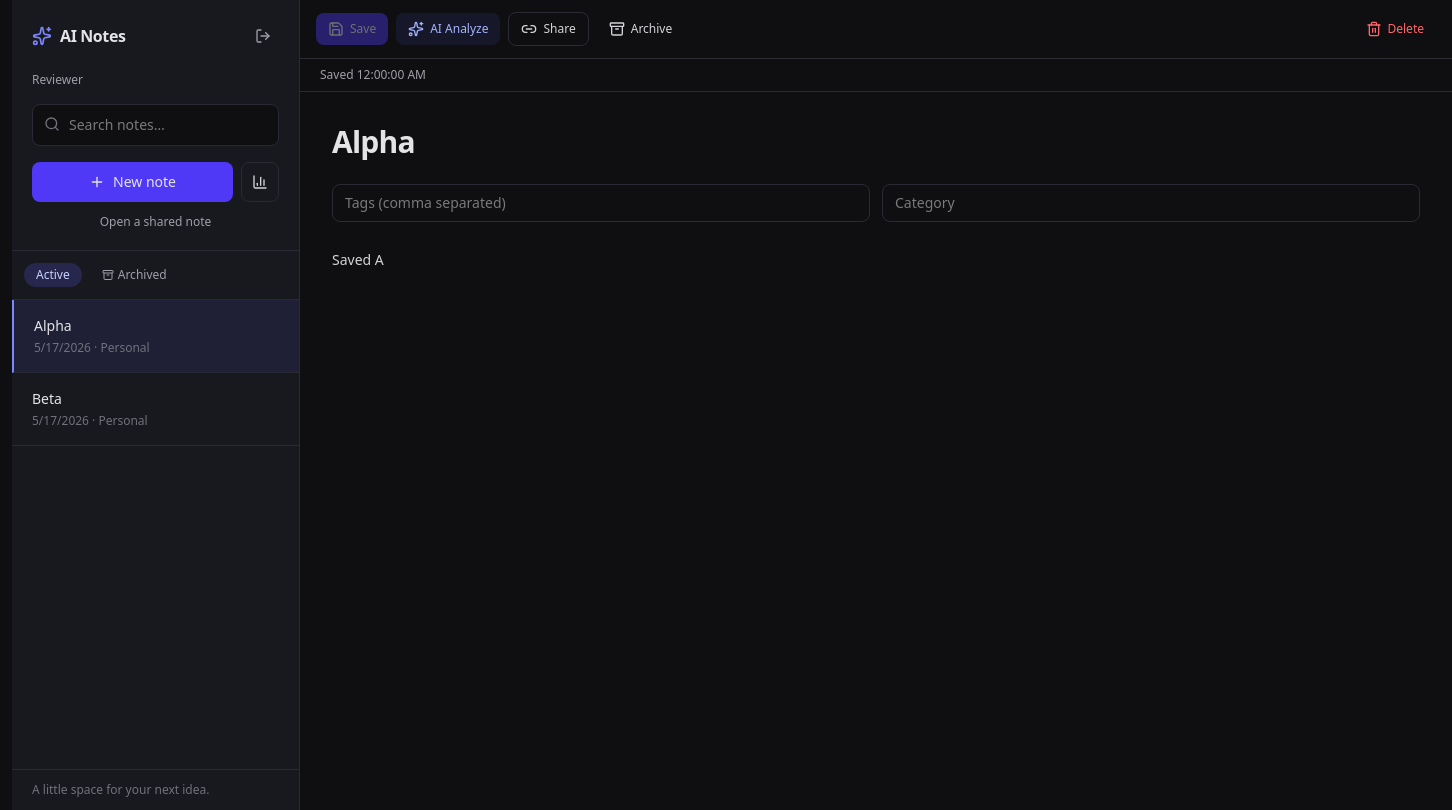
Test case: does not jump back to another note when its save finishes
The image size is (1452, 810).
Replace the text in the text box named "Note content" with "Submitted A" at (876, 426), box [332,246,1420,606]
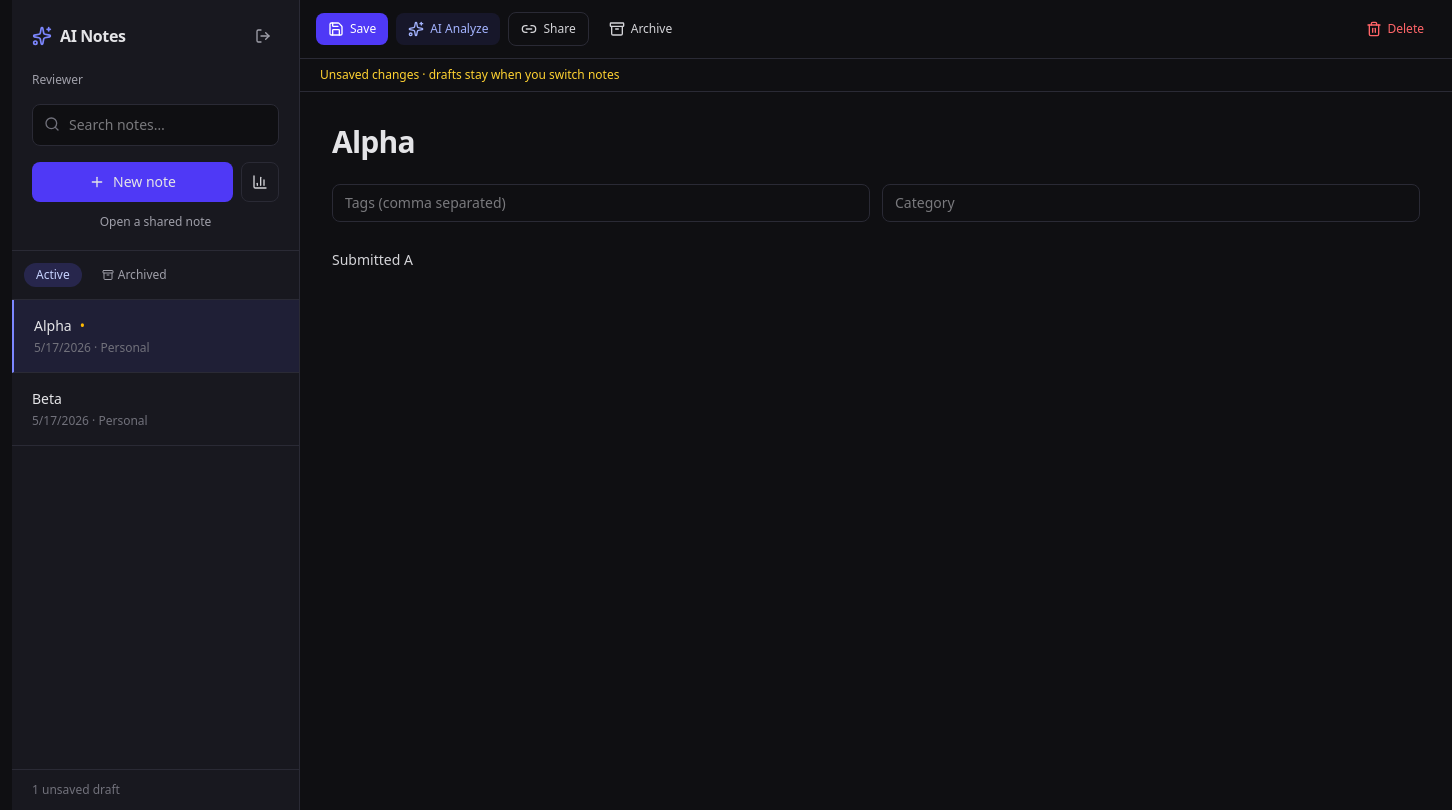
Click the button "Save" at (352, 29), box [316,13,388,45]
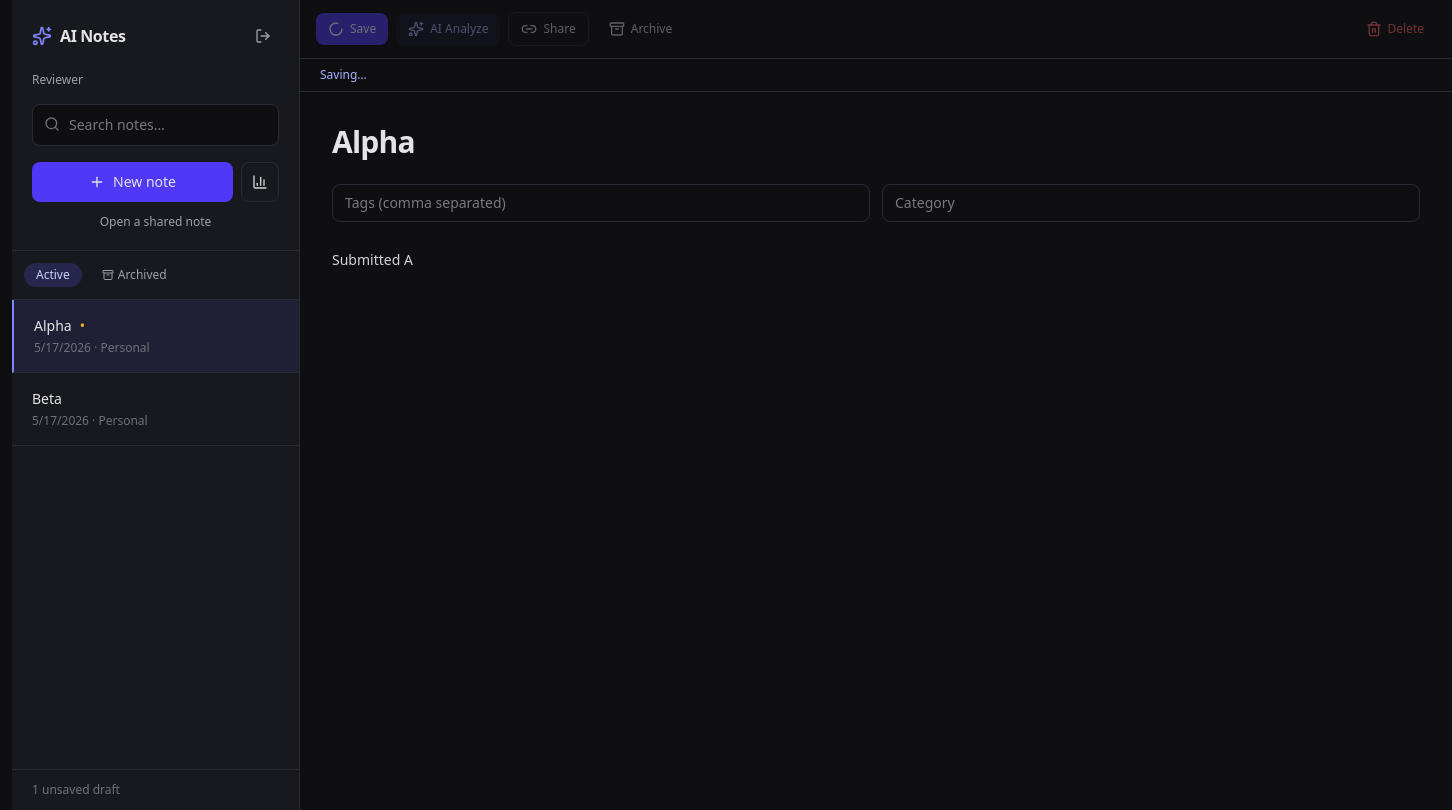
Click the button "Beta 5/17/2026 · Personal" at (60, 420), box [12,373,299,446]
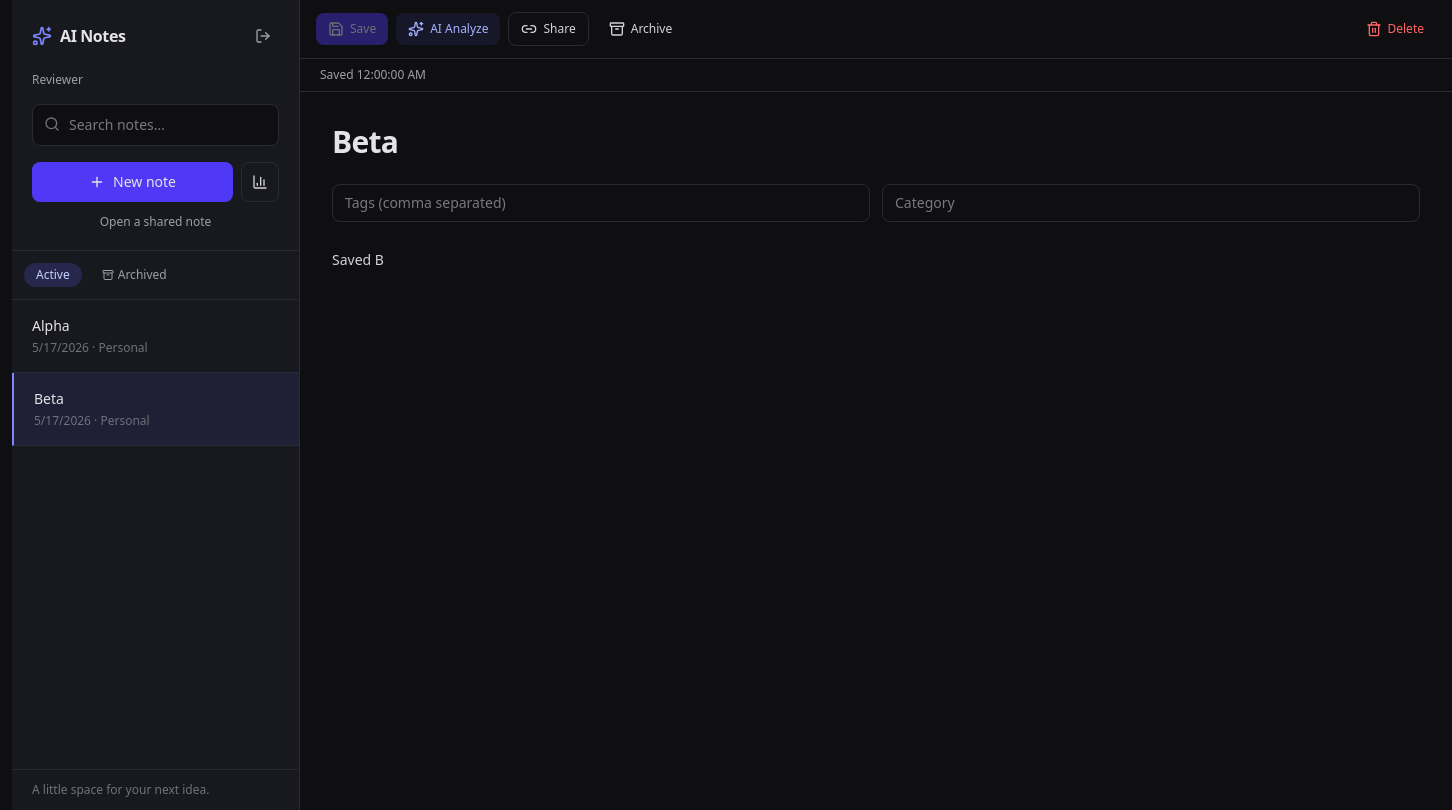
Now the field named "Note title" holds "Beta", box [332,124,1420,160]
Now the text box named "Note content" holds "Saved B", box [332,246,1420,606]
